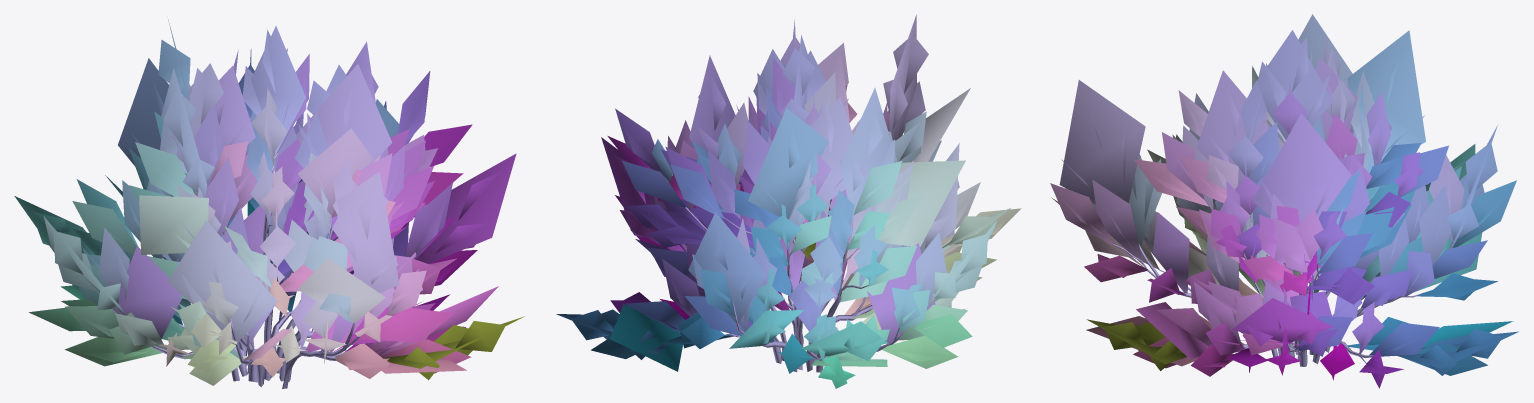
The picture shows the model from 3 angles, left to right: view 1: azimuth 30°, elevation 25°; view 2: azimuth 150°, elevation 25°; view 3: azimuth 270°, elevation 25°; orthographic projection. The views are drawn at different scales.
Parts seen in each view (by area): view 1: SM_BS_Retama_180cm_HD; view 2: SM_BS_Retama_180cm_HD; view 3: SM_BS_Retama_180cm_HD.
Boxes of the visible parts, <box> form: SM_BS_Retama_180cm_HD: <box>14,19,524,388</box>; SM_BS_Retama_180cm_HD: <box>556,14,1021,388</box>; SM_BS_Retama_180cm_HD: <box>1050,14,1518,388</box>.
Bounding box in the file's own units: 99.03 × 103 × 77.26.
